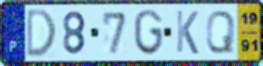7: (101, 10, 129, 56)
8: (61, 10, 87, 56)
D: (25, 7, 58, 60)
G: (132, 8, 165, 57)
K: (175, 9, 200, 56)
Q: (204, 9, 237, 55)
